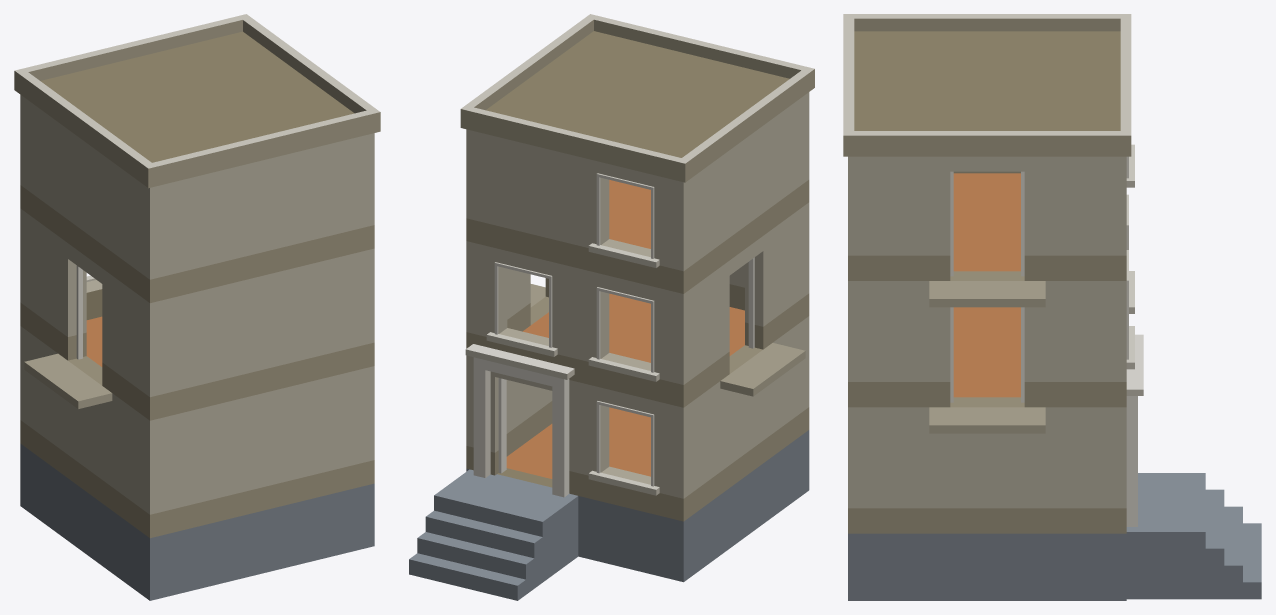
File: LivingHouseA.fbx
3 views of the same model, side by side, from view 1: azimuth 30°, elevation 25°; view 2: azimuth 150°, elevation 25°; view 3: azimuth 270°, elevation 25° (orthographic). The views are drawn at different scales.
Visible parts, largest first — view 1: LivingHouseAFloorB, LivingHouseAFloorC, LivingHouseAFloorA, LivingHouseARoof, LivingHouseADoor; view 2: LivingHouseAFloorB, LivingHouseAFloorC, LivingHouseADoor, LivingHouseARoof, LivingHouseAFloorA; view 3: LivingHouseARoof, LivingHouseAFloorC, LivingHouseAFloorB, LivingHouseADoor, LivingHouseAFloorA.
Boxes of the visible parts, x1=… form: LivingHouseAFloorB: x1=20, y1=208, x2=374, y2=420; LivingHouseAFloorC: x1=20, y1=95, x2=374, y2=303; LivingHouseAFloorA: x1=20, y1=326, x2=374, y2=538; LivingHouseARoof: x1=14, y1=14, x2=380, y2=188; LivingHouseADoor: x1=20, y1=443, x2=374, y2=600; LivingHouseAFloorB: x1=466, y1=202, x2=809, y2=407; LivingHouseAFloorC: x1=466, y1=92, x2=809, y2=293; LivingHouseADoor: x1=409, y1=344, x2=809, y2=600; LivingHouseARoof: x1=460, y1=14, x2=814, y2=182; LivingHouseAFloorA: x1=466, y1=316, x2=809, y2=521; LivingHouseARoof: x1=843, y1=14, x2=1131, y2=156; LivingHouseAFloorC: x1=848, y1=144, x2=1134, y2=307; LivingHouseAFloorB: x1=848, y1=194, x2=1134, y2=433; LivingHouseADoor: x1=848, y1=334, x2=1261, y2=600; LivingHouseAFloorA: x1=848, y1=407, x2=1126, y2=533.
Size of the model in its own units: 782 by 1110 by 900.
